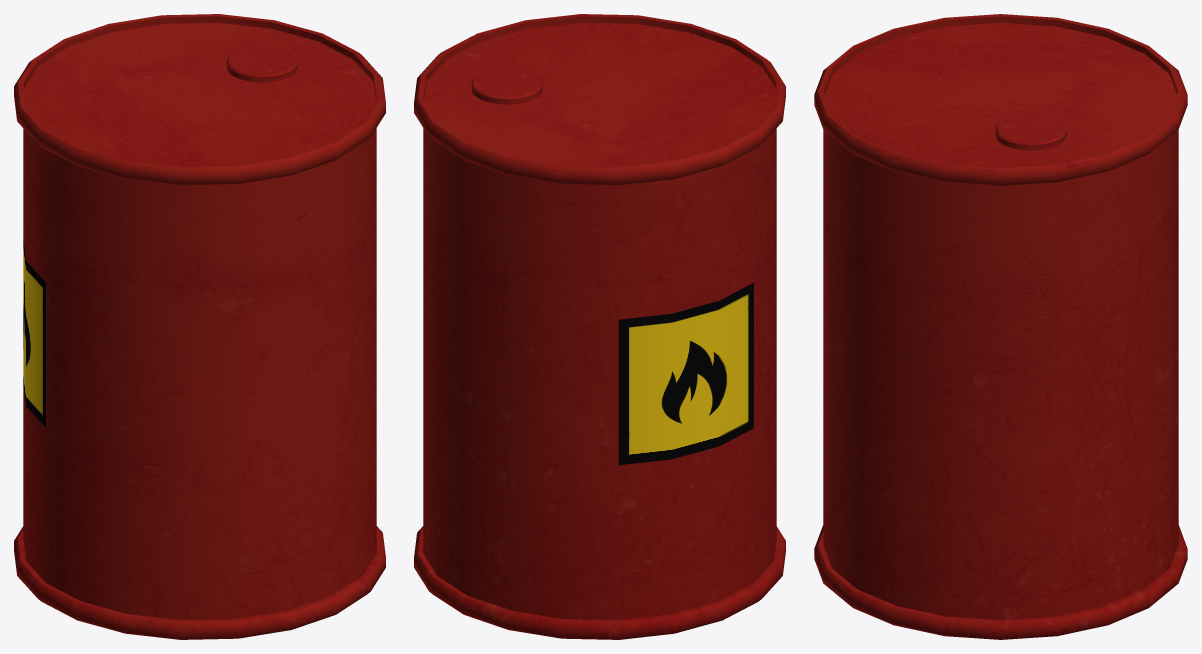
File: Explosive Barrel.FBX
3 views of the same model, side by side, from view 1: azimuth 30°, elevation 25°; view 2: azimuth 150°, elevation 25°; view 3: azimuth 270°, elevation 25° (orthographic).
Visible parts, largest first — view 1: Cylinder001; view 2: Cylinder001; view 3: Cylinder001.
Boxes of the visible parts, left/top/right/bottom form: Cylinder001: left=14, top=14, right=385, bottom=639; Cylinder001: left=414, top=14, right=785, bottom=639; Cylinder001: left=814, top=14, right=1187, bottom=639.
Size of the model in its own units: 16.59 by 23.14 by 16.59.
Materials: 2 (2 with a texture image).
